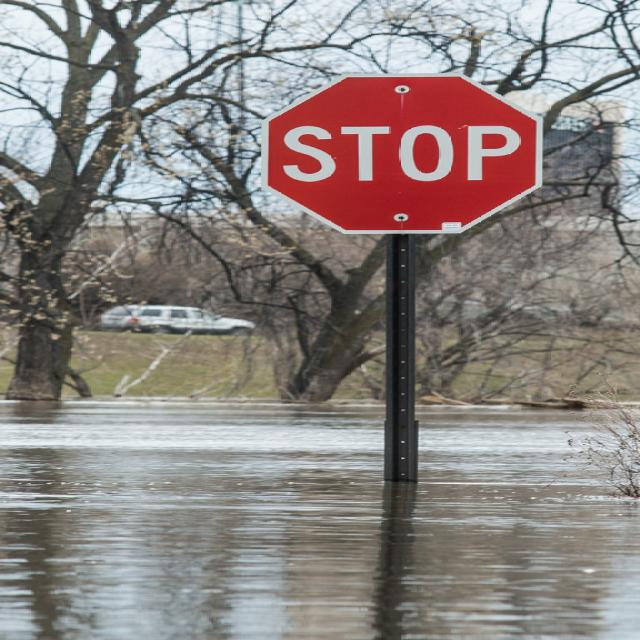Stop-sign: (260, 70, 540, 236)
